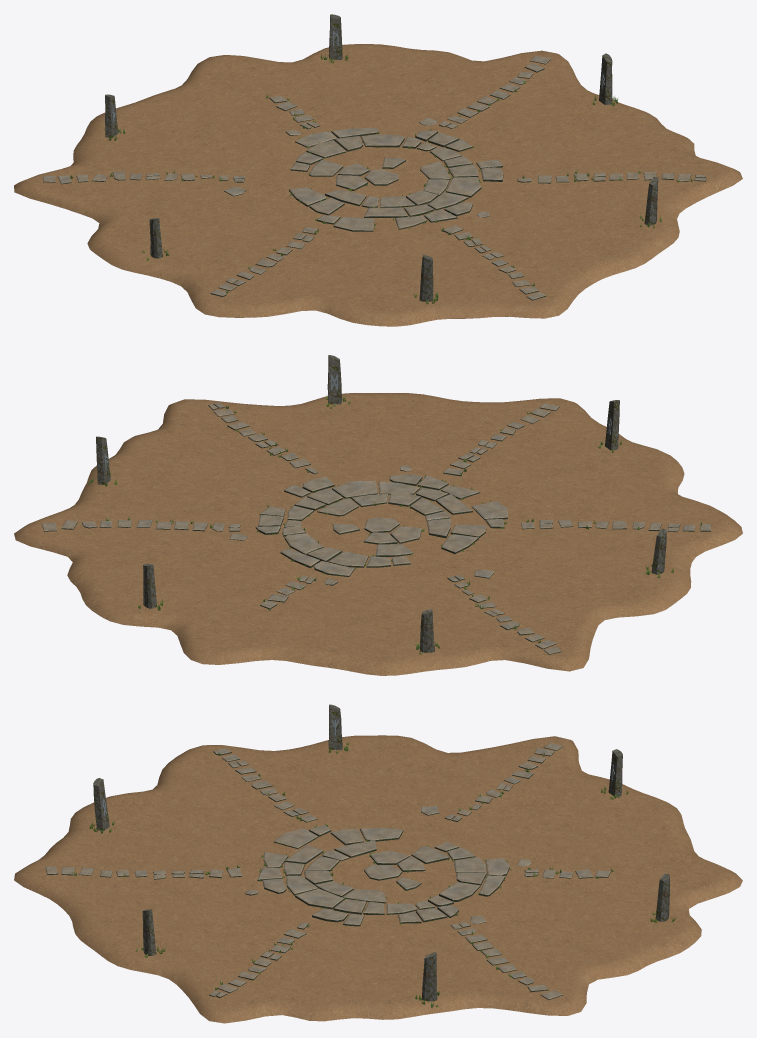
Rendered from plaza_v3.glb.
3 renders of one model, top to bottom at view 1: azimuth 30°, elevation 25°; view 2: azimuth 150°, elevation 25°; view 3: azimuth 270°, elevation 25°, orthographic. The views are drawn at different scales.
Parts seen in each view (by area): view 1: Circle, Clay16, Clay27, Clay22, Clay25, Clay24, Clay30, Clay19, Clay31, Clay23, Clay20, Clay33 (+36 smaller); view 2: Circle, Clay16, Clay15, Clay18, Clay04, Clay10, Clay12, Clay07, Clay19, Clay13, Clay06, Clay08 (+37 smaller); view 3: Circle, Clay34, Clay06, Clay07, Clay35, Clay36, Clay03, Clay05, Clay01, Clay28, Clay16, Clay09 (+38 smaller).
Boxes of the visible parts, <box> form: Circle: <box>224,117,503,231</box>; Clay16: <box>14,178,365,208</box>; Clay27: <box>387,184,558,318</box>; Clay22: <box>205,184,374,317</box>; Clay25: <box>381,185,436,326</box>; Clay24: <box>327,185,380,326</box>; Clay30: <box>393,182,658,271</box>; Clay19: <box>97,181,369,272</box>; Clay31: <box>395,181,679,253</box>; Clay23: <box>268,185,377,316</box>; Clay20: <box>135,182,370,285</box>; Clay33: <box>398,178,732,207</box>; Circle: <box>229,465,507,585</box>; Clay16: <box>390,531,592,671</box>; Clay15: <box>387,532,569,671</box>; Clay18: <box>393,529,672,617</box>; Clay04: <box>14,526,364,556</box>; Clay10: <box>203,533,371,664</box>; Clay12: <box>325,544,380,675</box>; Clay07: <box>86,530,366,624</box>; Clay19: <box>394,528,691,604</box>; Clay13: <box>381,557,437,675</box>; Clay06: <box>70,529,364,605</box>; Clay08: <box>123,531,368,635</box>; Circle: <box>244,806,531,926</box>; Clay34: <box>200,879,376,1023</box>; Clay06: <box>397,877,679,970</box>; Clay07: <box>399,875,701,952</box>; Clay35: <box>266,880,378,1021</box>; Clay36: <box>324,880,382,1021</box>; Clay03: <box>388,878,567,1015</box>; Clay05: <box>394,877,637,983</box>; Clay01: <box>382,879,437,1019</box>; Clay28: <box>14,873,365,904</box>; Clay16: <box>391,736,568,865</box>; Clay09: <box>401,873,742,903</box>.
Size of the model in its own units: 109 by 9.63 by 117.
Materials: 5 (4 with a texture image).
